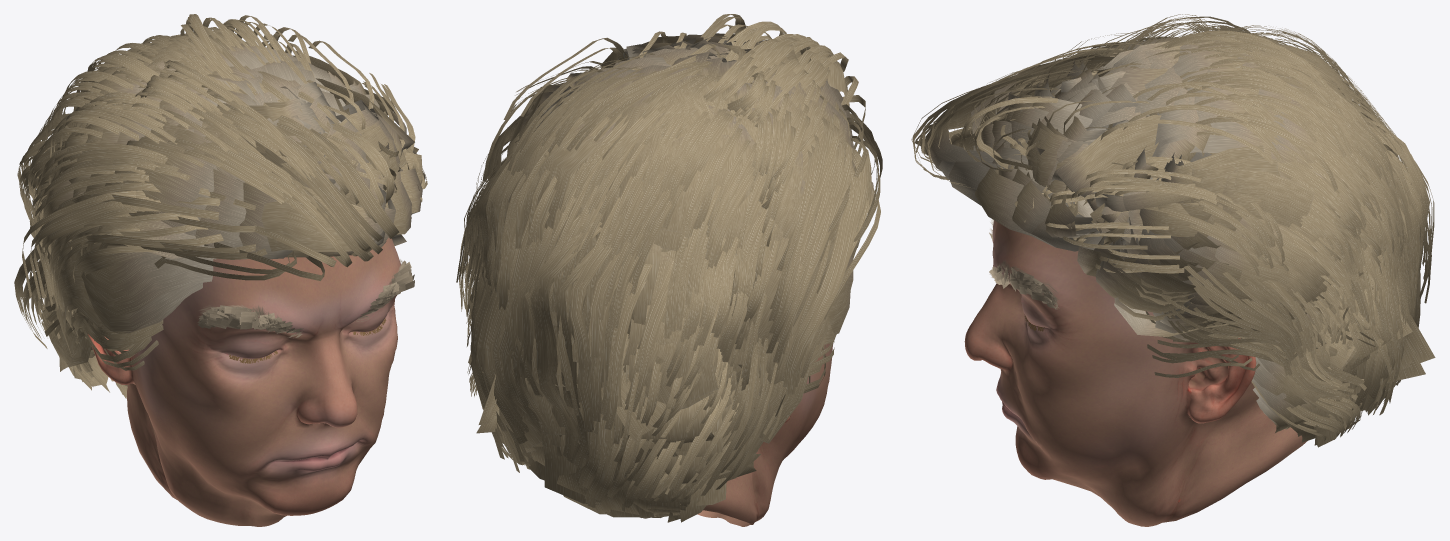
File: trump_head.gltf
3 views of the same model, side by side, from view 1: azimuth 30°, elevation 25°; view 2: azimuth 150°, elevation 25°; view 3: azimuth 270°, elevation 25° (orthographic). The views are drawn at different scales.
Visible parts, largest first — view 1: hair2, head, hair1, Eyebrow, Hair3, Eyebrow_2; view 2: hair2, hair1, head, Hair3; view 3: hair1, hair2, head, Hair3, Eyebrow, Eyebrow_2.
Part boxes in pixels (x1=…): hair2: x1=14, y1=14, x2=427, y2=354; head: x1=87, y1=237, x2=400, y2=526; hair1: x1=33, y1=33, x2=425, y2=398; Eyebrow: x1=197, y1=260, x2=414, y2=337; Hair3: x1=44, y1=296, x2=163, y2=370; Eyebrow_2: x1=198, y1=259, x2=404, y2=332; hair2: x1=456, y1=14, x2=882, y2=513; hair1: x1=468, y1=33, x2=874, y2=522; head: x1=697, y1=343, x2=833, y2=526; Hair3: x1=763, y1=341, x2=834, y2=439; hair1: x1=924, y1=33, x2=1435, y2=447; hair2: x1=911, y1=14, x2=1434, y2=440; head: x1=964, y1=220, x2=1307, y2=526; Hair3: x1=1146, y1=311, x2=1297, y2=377; Eyebrow: x1=989, y1=221, x2=1058, y2=309; Eyebrow_2: x1=989, y1=219, x2=1058, y2=307.
Size of the model in its own units: 2.09 by 2.68 by 2.7.
4 materials, 4 textured.
